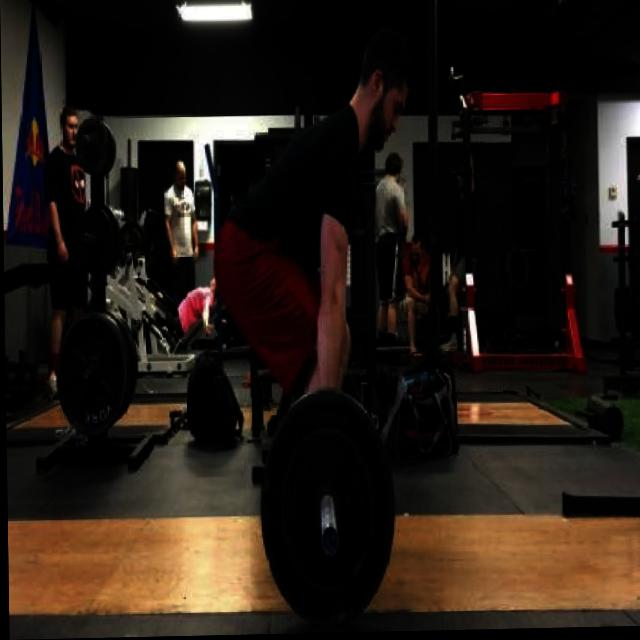barbell: (249, 383, 403, 632)
